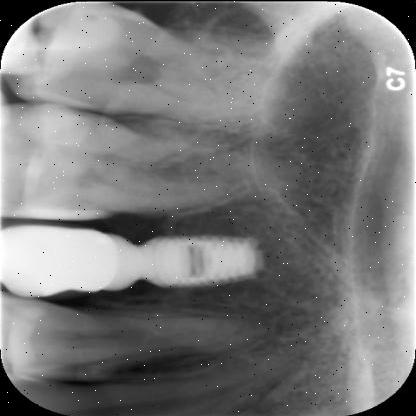Bicon: (138, 235, 260, 288)
